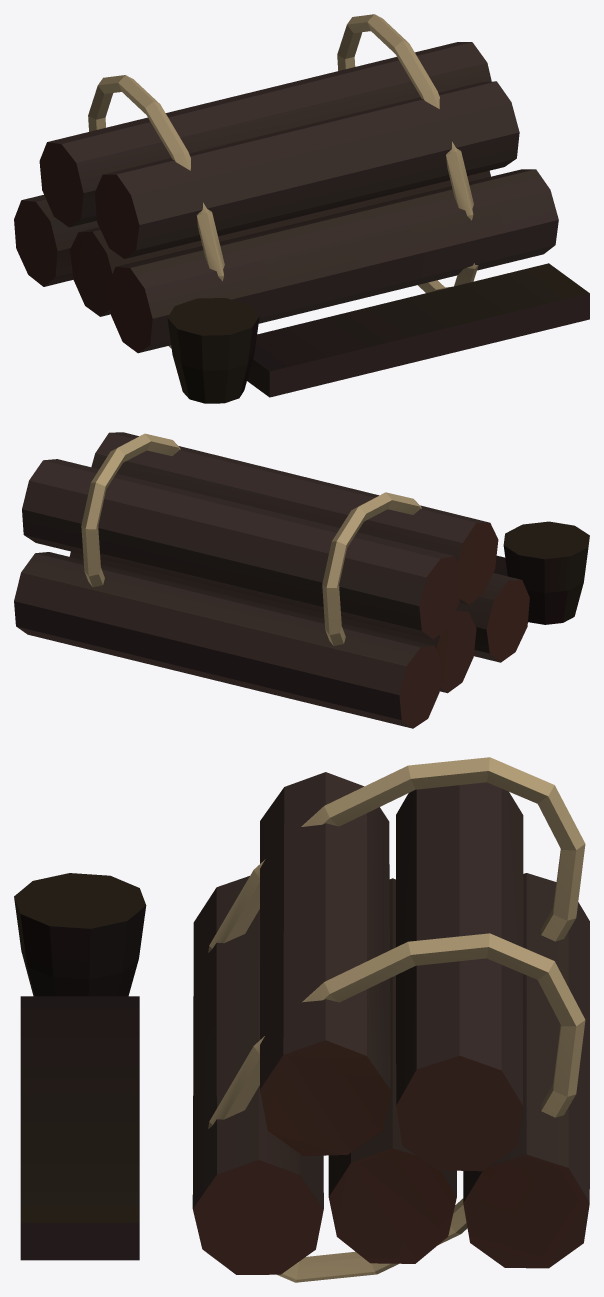
3 renders of one model, top to bottom at view 1: azimuth 30°, elevation 25°; view 2: azimuth 150°, elevation 25°; view 3: azimuth 270°, elevation 25°, orthographic. The views are drawn at different scales.
Parts seen in each view (by area): view 1: base; view 2: base; view 3: base.
Part boxes in pixels (x1,y1,x2,y2): base: [14, 14, 589, 403]; base: [14, 432, 589, 728]; base: [14, 757, 589, 1282].
Size of the model in its own units: 0.4828 by 0.259 by 0.387.
